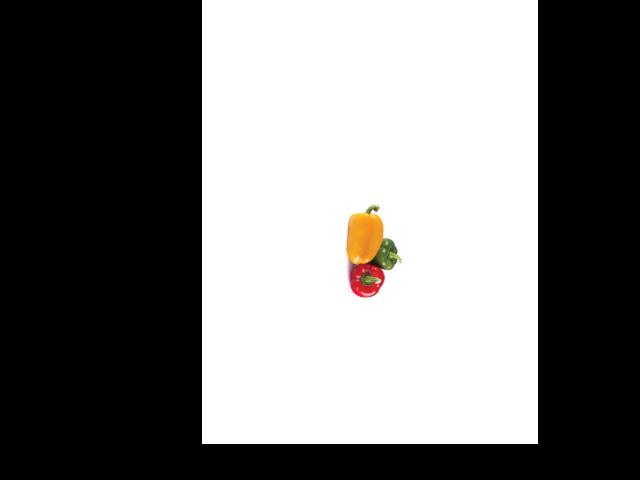bell_pepper: (369, 235, 401, 273)
